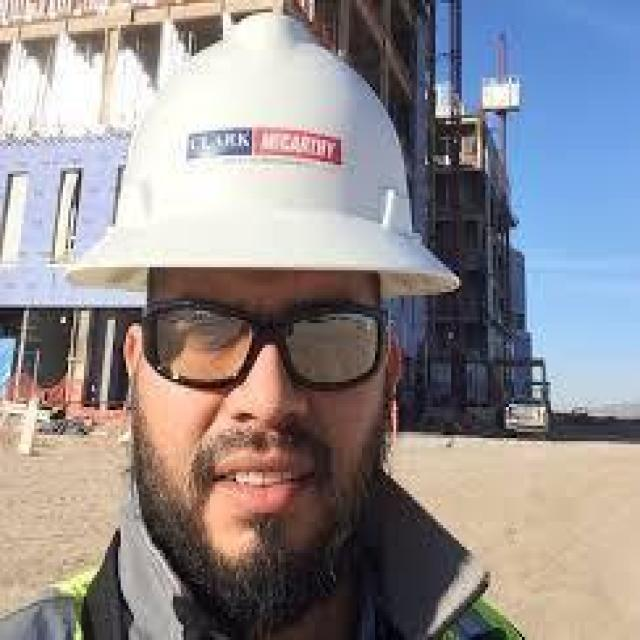helmet: (63, 13, 462, 295)
